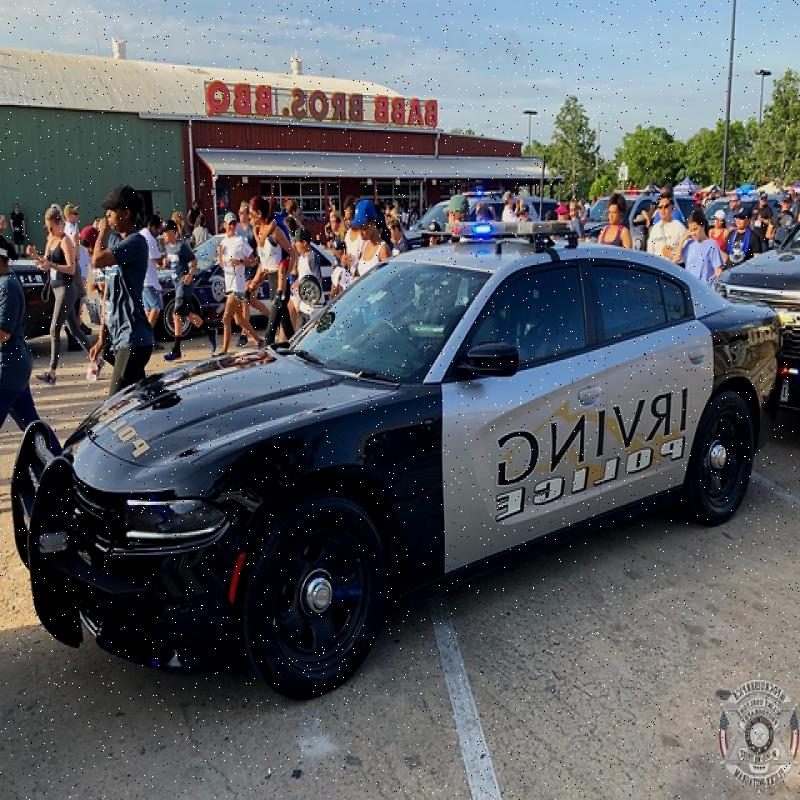AmbulanceSiren: (455, 208, 574, 250)
